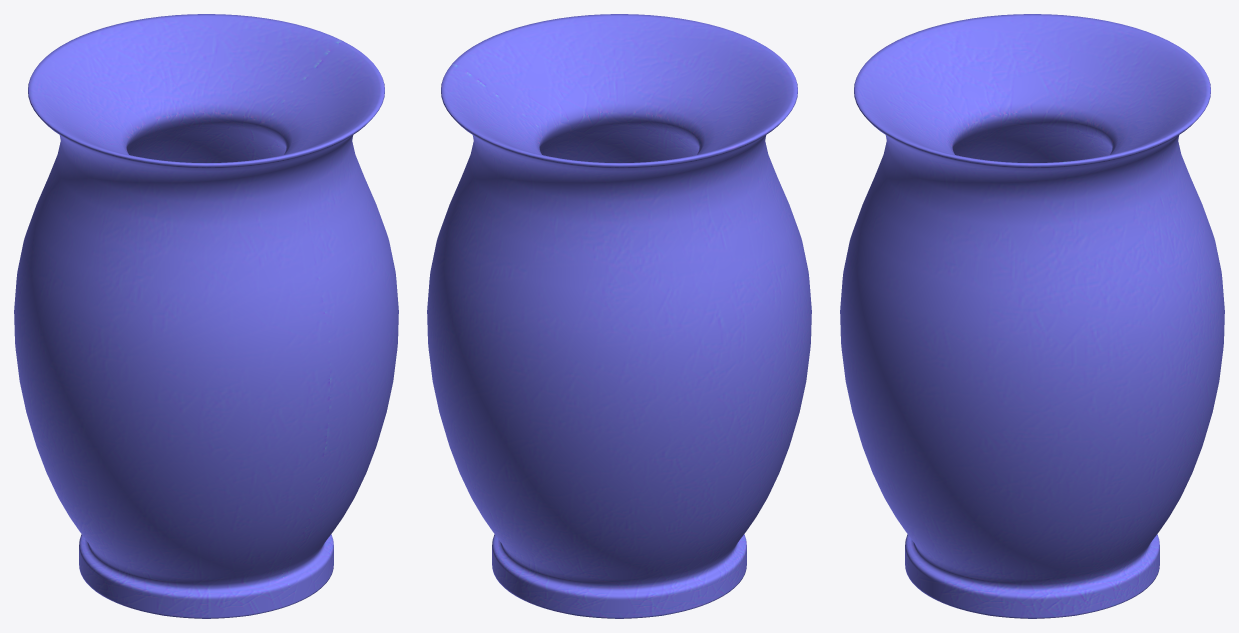
Rendered from vase whole.fbx.
The picture shows the model from 3 angles, left to right: view 1: azimuth 30°, elevation 25°; view 2: azimuth 150°, elevation 25°; view 3: azimuth 270°, elevation 25°; orthographic projection.
Visible parts, largest first — view 1: Pot; view 2: Pot; view 3: Pot.
Part boxes in pixels (x1,y1,x2,y2): Pot: (14, 14, 398, 618); Pot: (427, 14, 811, 618); Pot: (840, 14, 1224, 618).
Size of the model in its own units: 70.56 by 97.08 by 70.56.
